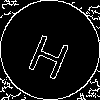H: (25, 25, 76, 81)
